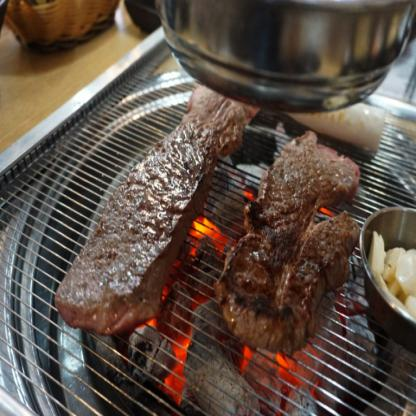Carne: (46, 98, 256, 322), (222, 130, 366, 363)
